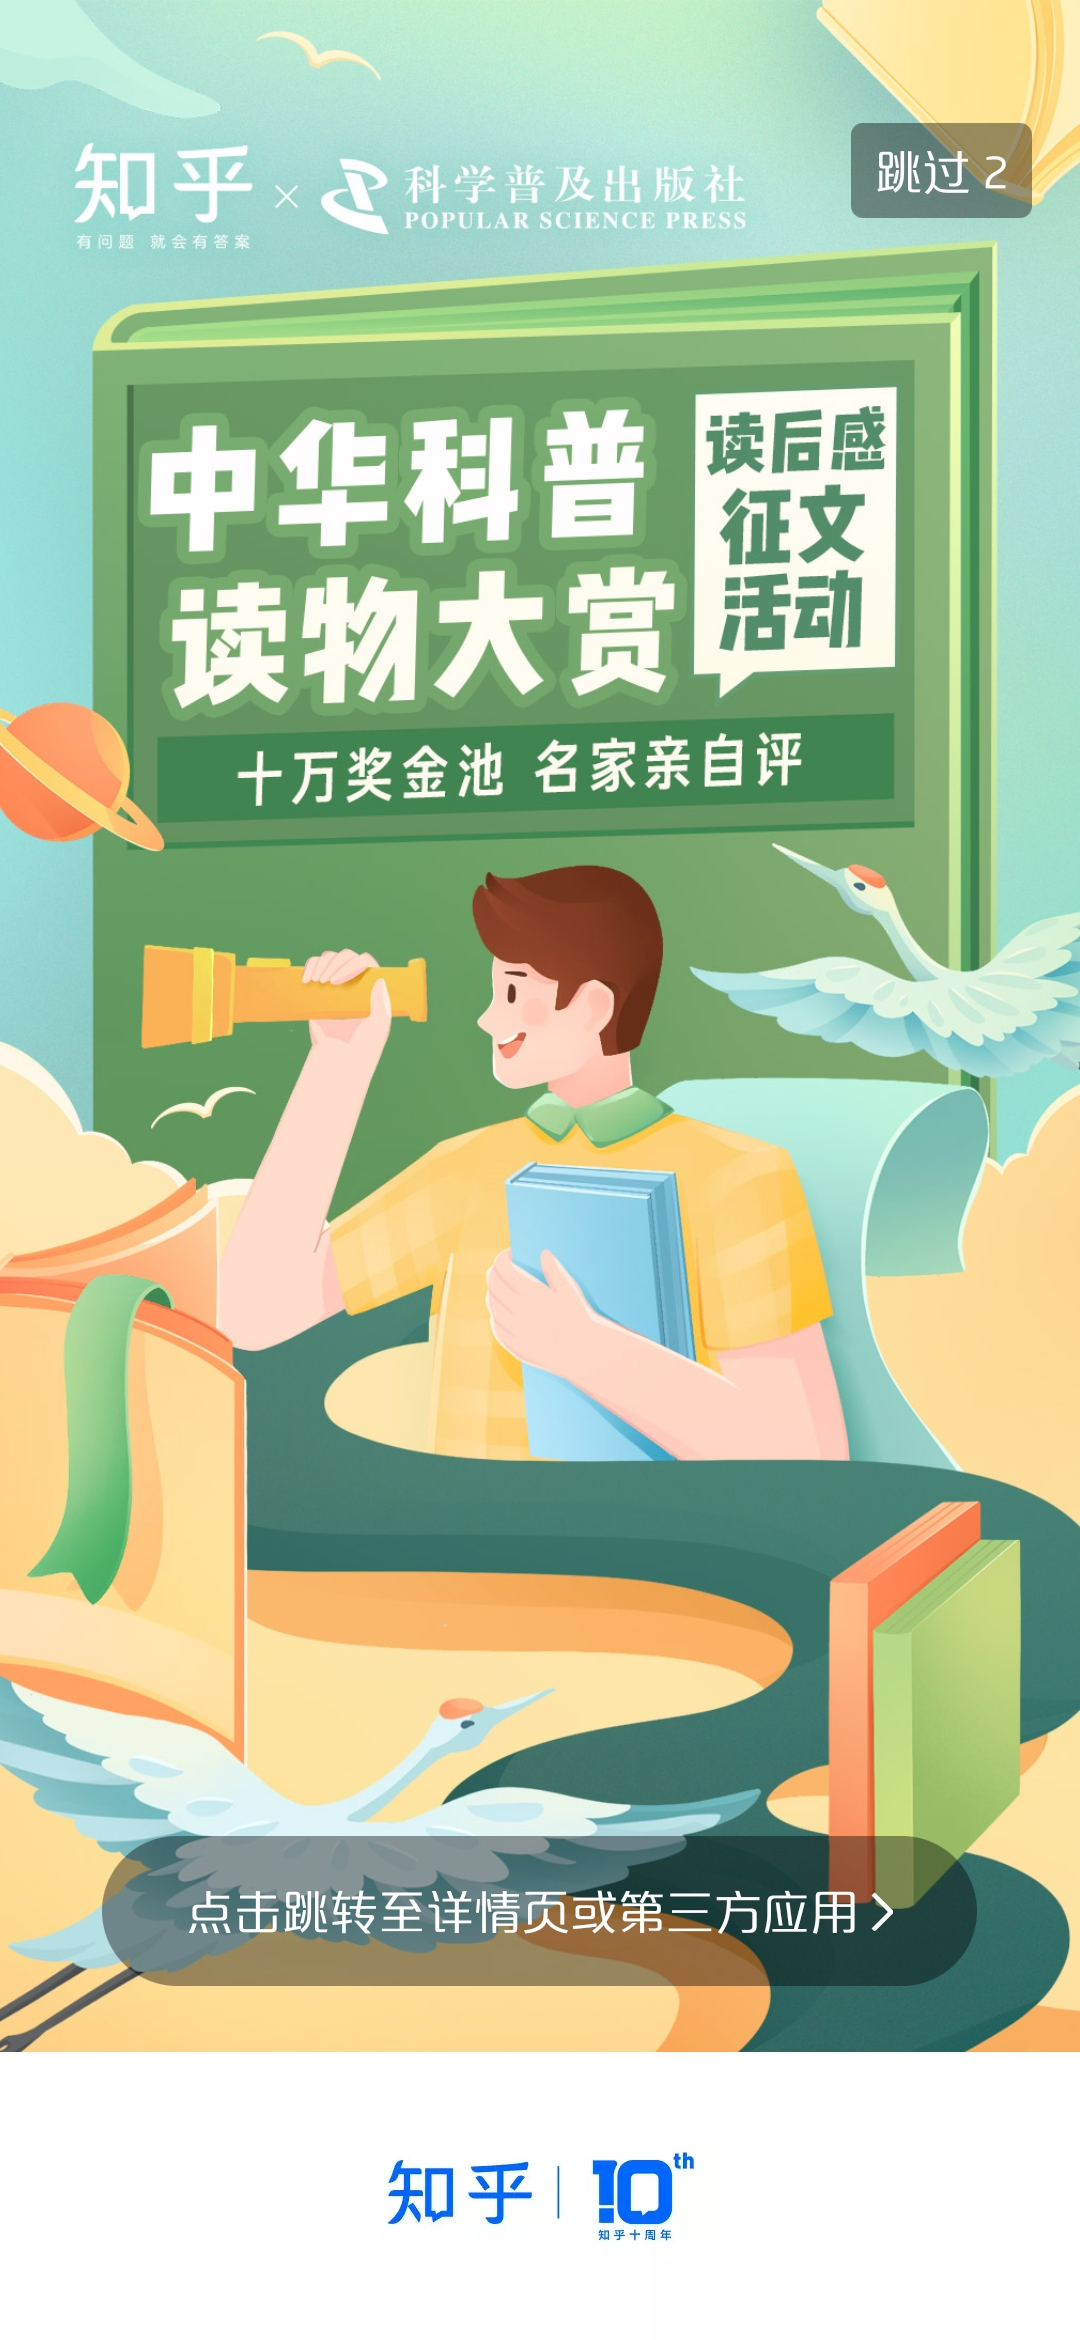skip: (850, 130, 1028, 219)
